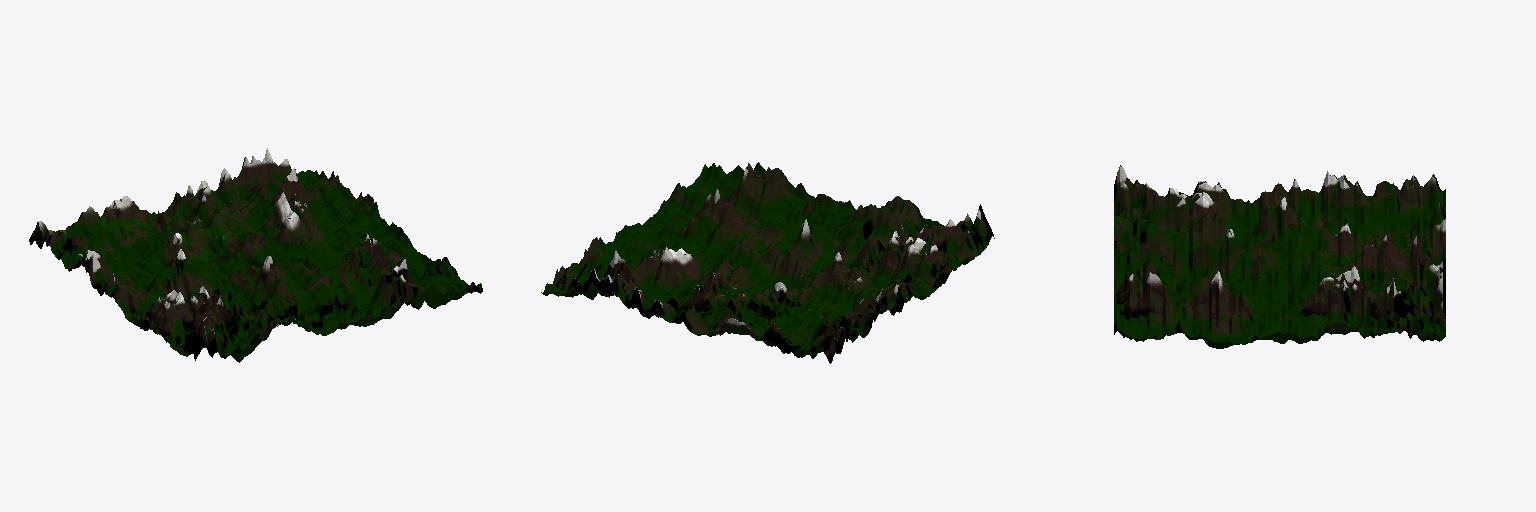
3 renders of one model, left to right at view 1: azimuth 30°, elevation 25°; view 2: azimuth 150°, elevation 25°; view 3: azimuth 270°, elevation 25°, orthographic.
Visible parts, largest first — view 1: Plane; view 2: Plane; view 3: Plane.
Boxes of the visible parts, x1=… form: Plane: x1=29, y1=148, x2=482, y2=362; Plane: x1=541, y1=162, x2=994, y2=363; Plane: x1=1114, y1=165, x2=1445, y2=348.
Size of the model in its own units: 200 by 34.64 by 200.
1 materials, 1 textured.